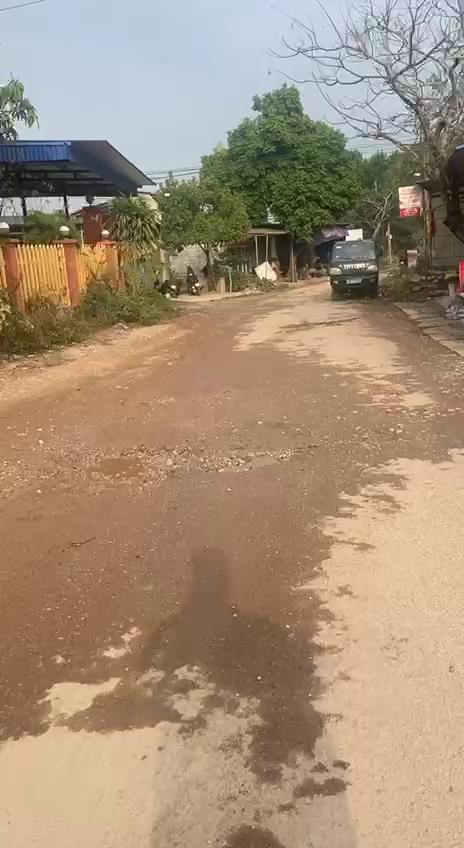pothole: (77, 439, 200, 491), (212, 440, 309, 473)
